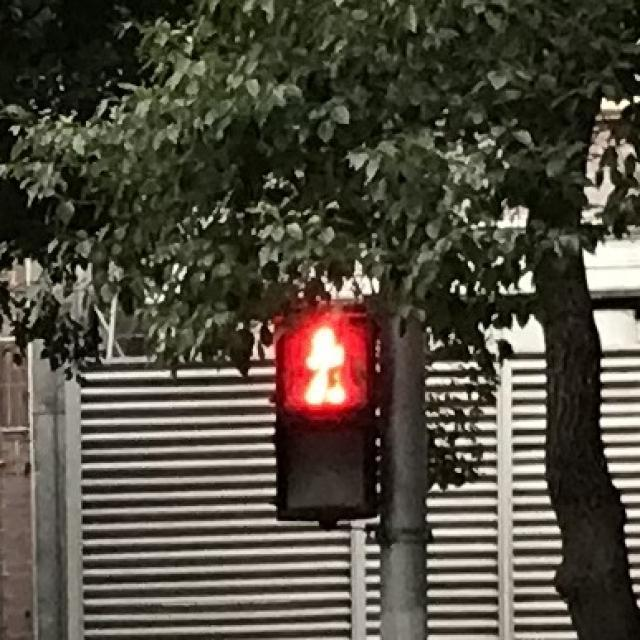red-crossing: (273, 316, 372, 415)
